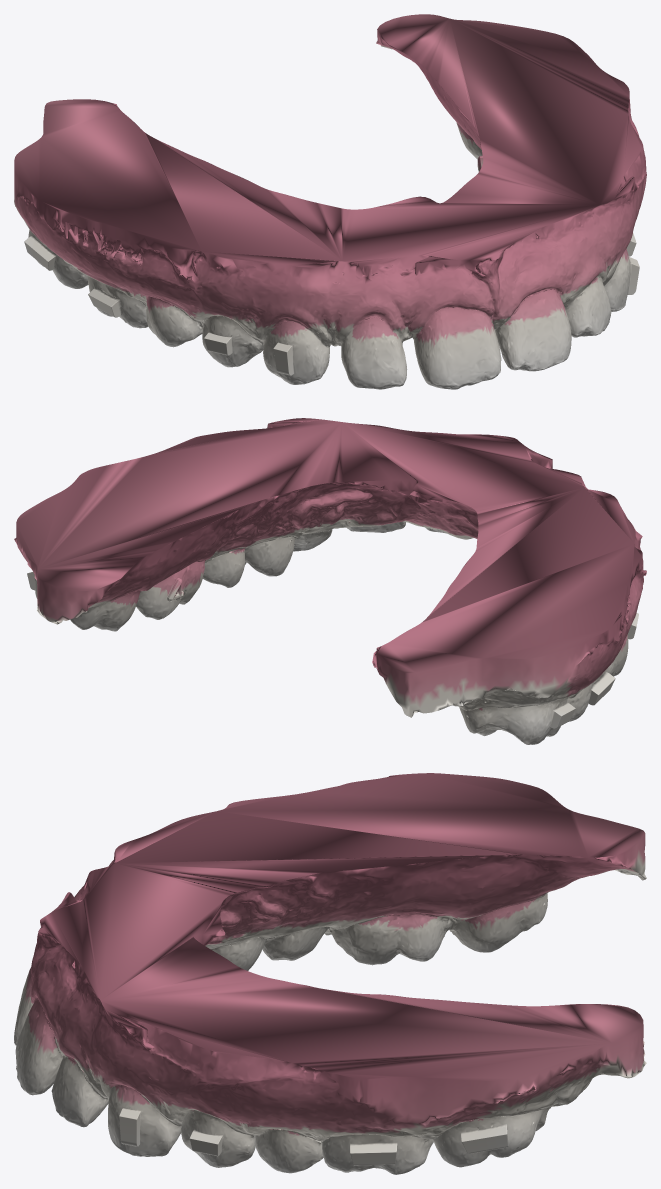
Rendered from Niya Priority Upper jaw - 04 - Model.glb.
3 views of the same model, one above another, from view 1: azimuth 30°, elevation 25°; view 2: azimuth 150°, elevation 25°; view 3: azimuth 270°, elevation 25° (orthographic). The views are drawn at different scales.
Visible parts, largest first — view 1: Niya Priority Upper jaw - 04 - Model; view 2: Niya Priority Upper jaw - 04 - Model; view 3: Niya Priority Upper jaw - 04 - Model.
Boxes of the visible parts, x1,y1,x2,y2 form: Niya Priority Upper jaw - 04 - Model: (14, 14, 646, 389); Niya Priority Upper jaw - 04 - Model: (14, 418, 646, 744); Niya Priority Upper jaw - 04 - Model: (14, 773, 646, 1174).
Bounding box in the file's own units: 66.36 × 13.7 × 57.63.
